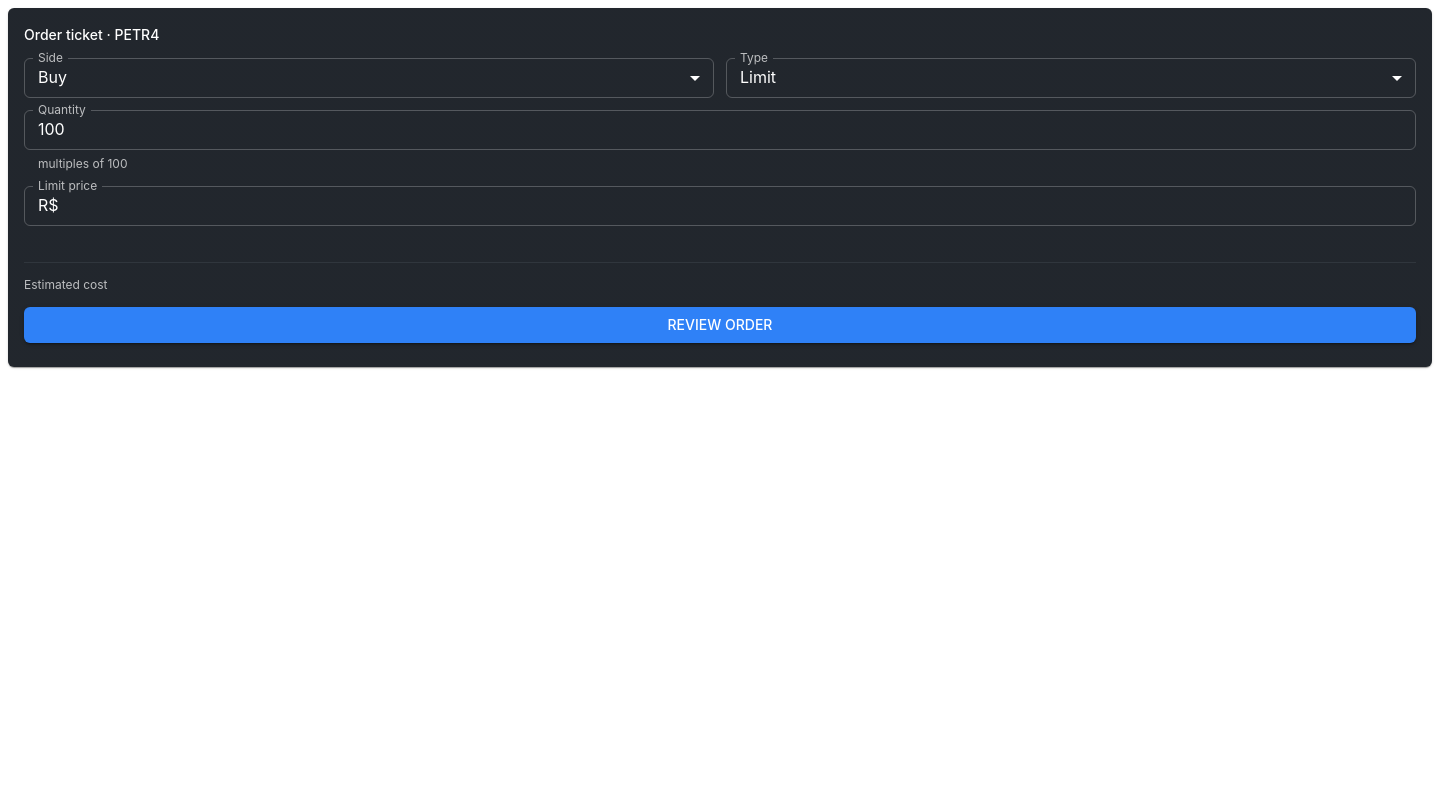
Test: confirming before sending › shows a summary instead of submitting straight away
The width and height of the screenshot is (1440, 810).
Type "3850" into the field labelled "Limit price". click: coordinates (741, 206)
box: [67,186,1416,226]
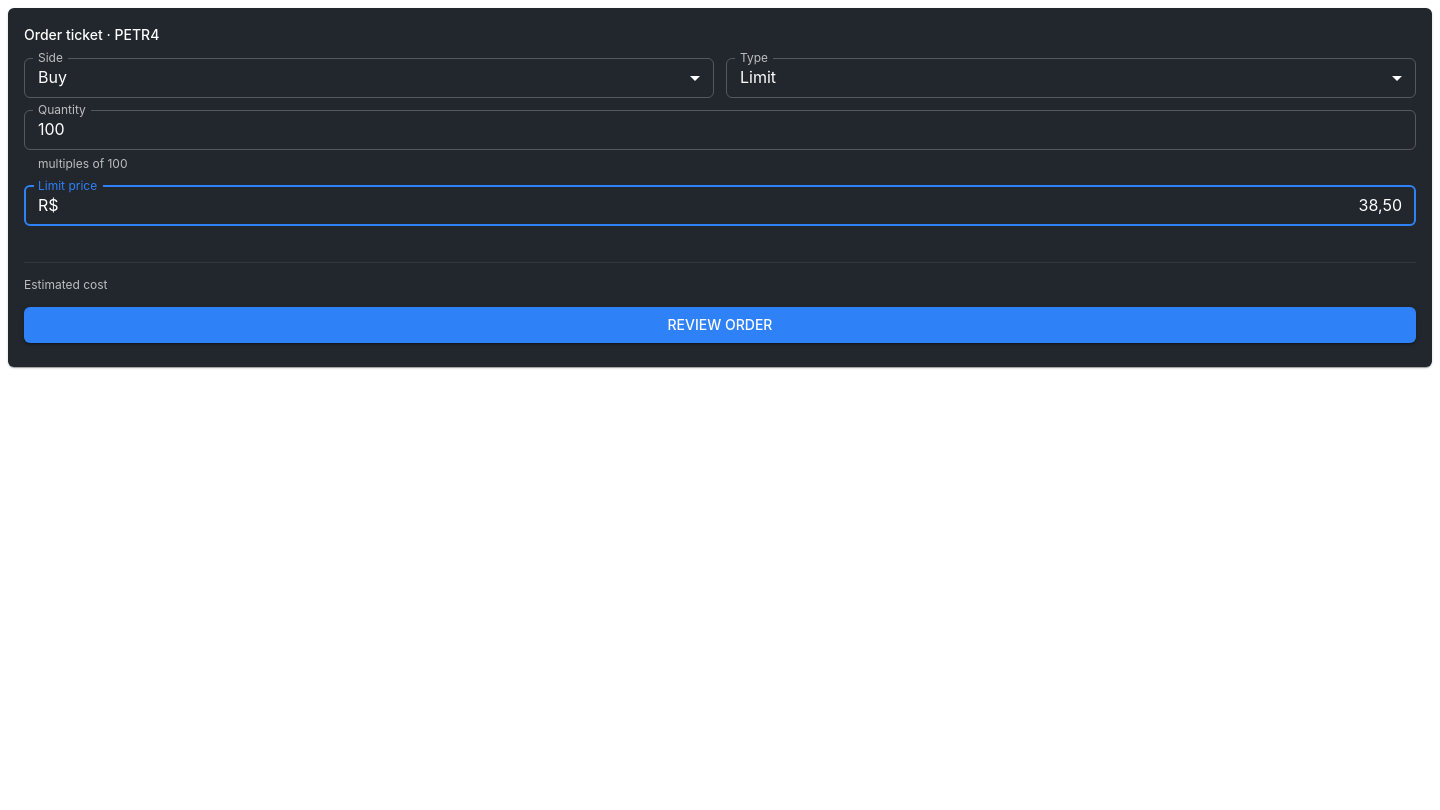
Click the button "Review order". click: coordinates (720, 325)
box: [24,307,1416,343]
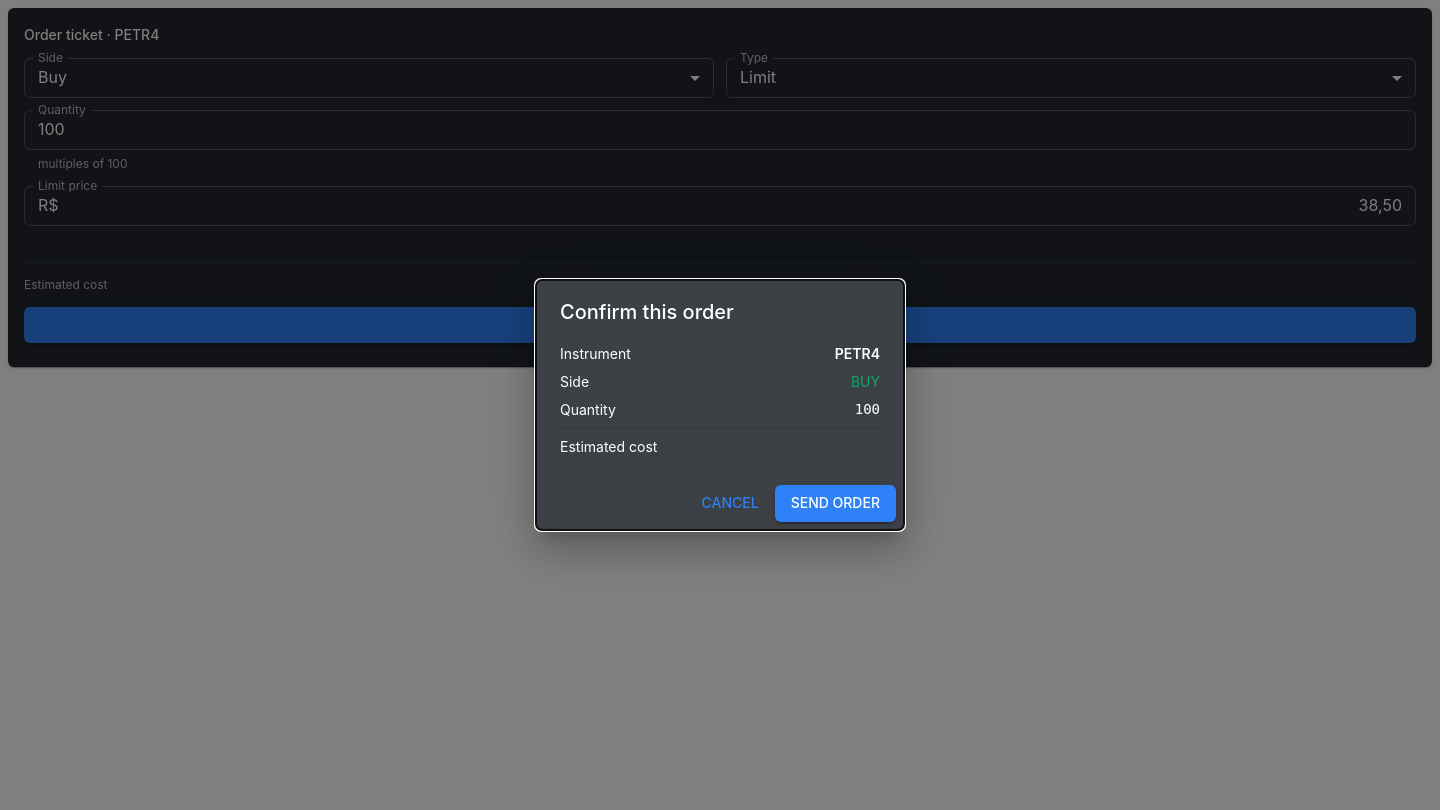
Expected: the heading "Confirm this order" is shown, [560,300,734,324]
